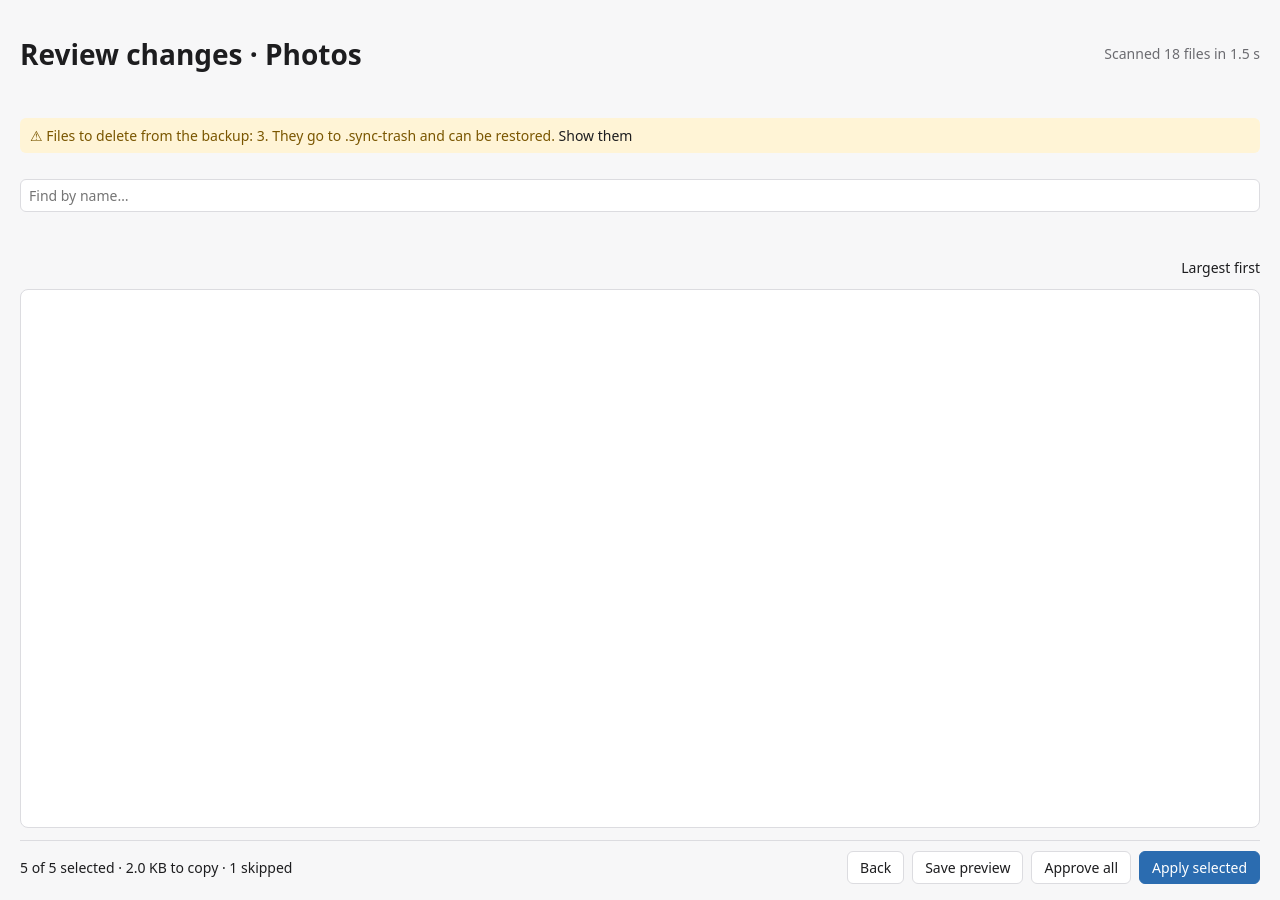
it: Preview › shows a save-dialog failure
This screenshot has width=1280, height=900.
Click the button "Save preview": (968, 868) [912,851,1024,884]
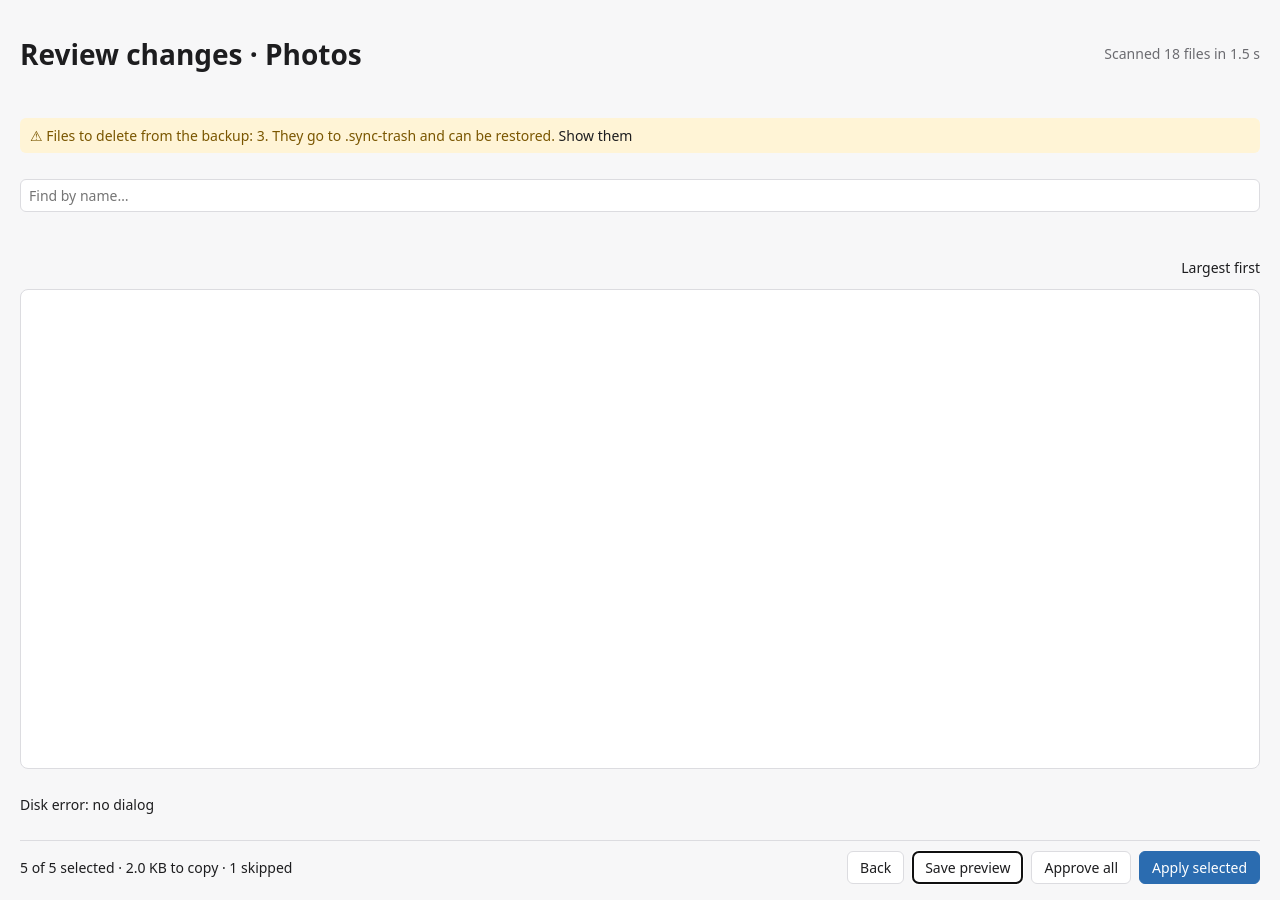
Now the text "Disk error: no dialog" is shown, box [20,795,154,814]
